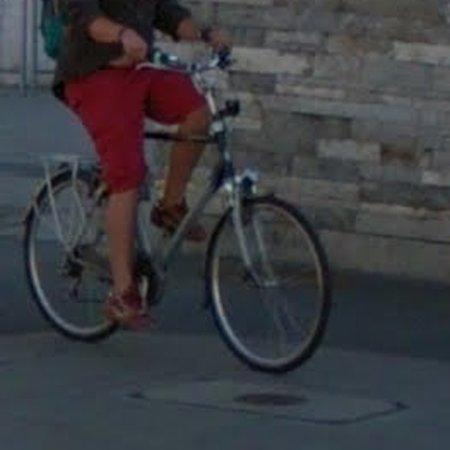bicycles: (136, 51, 331, 373), (24, 156, 115, 339)
